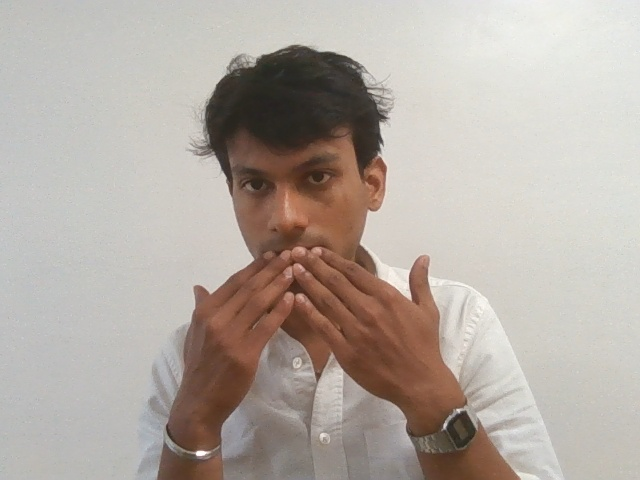ThankYou: (170, 241, 456, 430)
